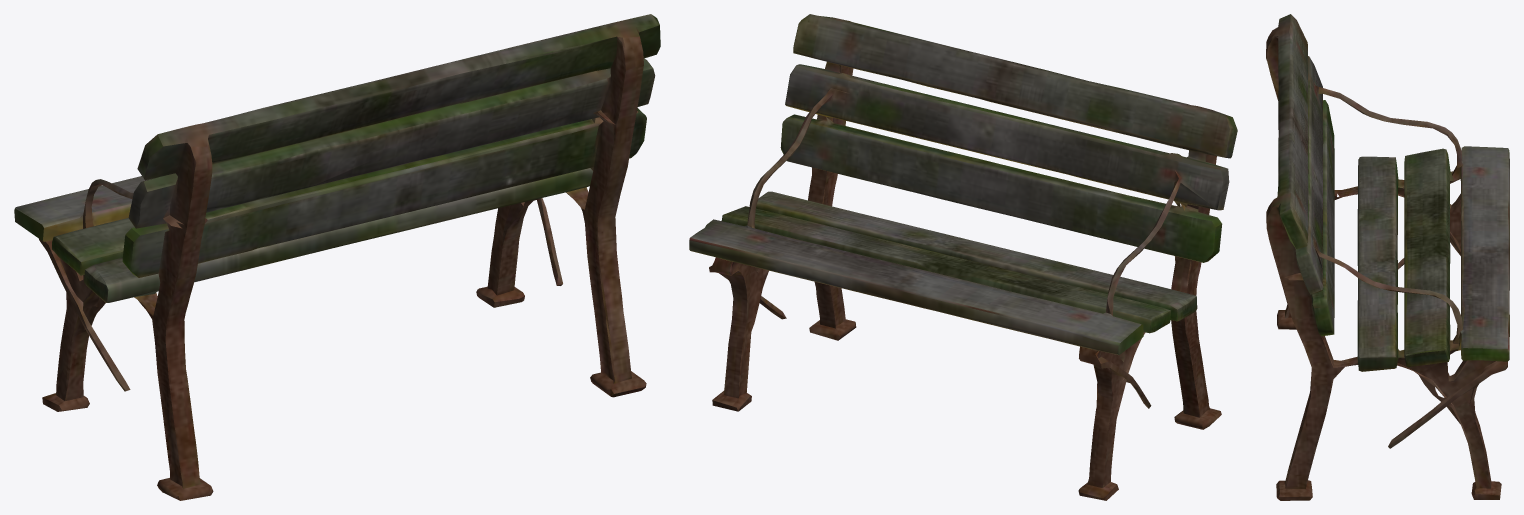
The model's file is bench.glb.
The picture shows the model from 3 angles, left to right: view 1: azimuth 30°, elevation 25°; view 2: azimuth 150°, elevation 25°; view 3: azimuth 270°, elevation 25°; orthographic projection. The views are drawn at different scales.
Parts seen in each view (by area): view 1: bench; view 2: bench; view 3: bench.
Boxes of the visible parts, <box> form: bench: <box>14,14,660,500</box>; bench: <box>689,14,1237,500</box>; bench: <box>1266,14,1509,500</box>.
Size of the model in its own units: 1.24 by 0.85 by 0.6302.
1 material, 1 textured.
